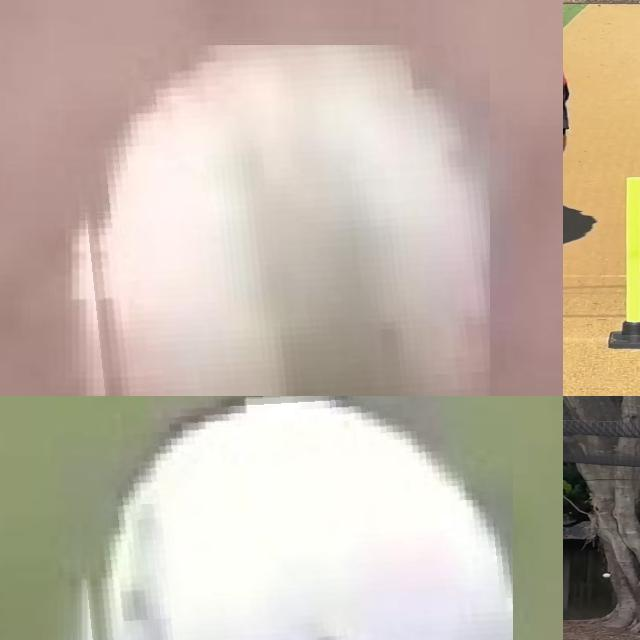Cricket ball: (69, 45, 490, 396), (67, 396, 513, 640), (601, 573, 613, 578)
Stumps: (611, 173, 640, 349)
